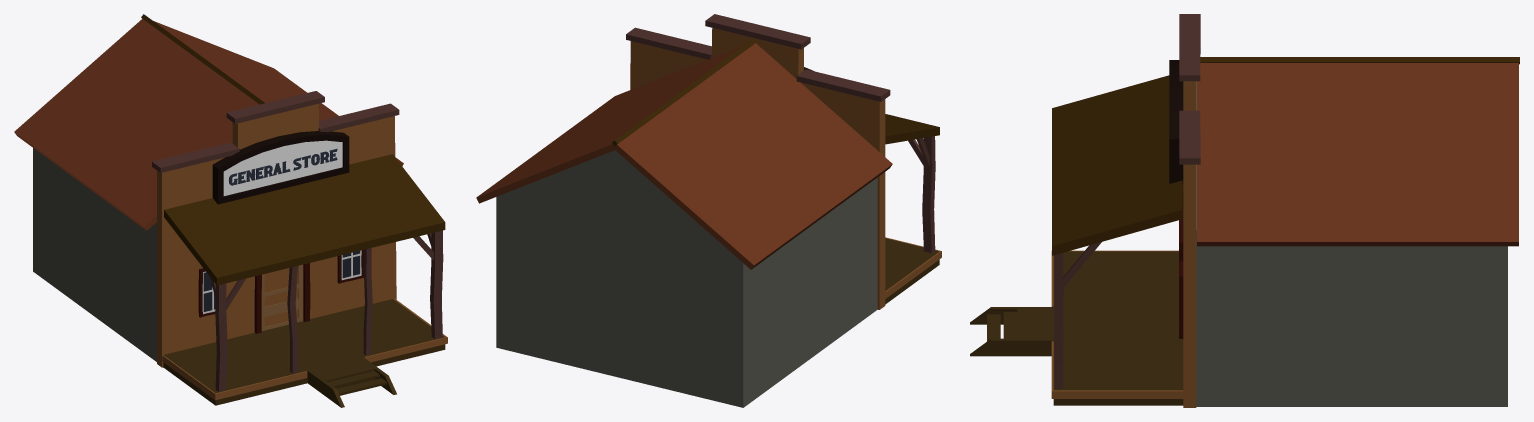
Rendered from General_Store.fbx.
The picture shows the model from 3 angles, left to right: view 1: azimuth 30°, elevation 25°; view 2: azimuth 150°, elevation 25°; view 3: azimuth 270°, elevation 25°; orthographic projection. The views are drawn at different scales.
Visible parts, largest first — view 1: General_Store; view 2: General_Store; view 3: General_Store.
Boxes of the visible parts, bbox=[...] form: General_Store: bbox=[14, 14, 447, 407]; General_Store: bbox=[476, 14, 941, 407]; General_Store: bbox=[970, 14, 1519, 407].
Size of the model in its own units: 859 by 735 by 1270.
